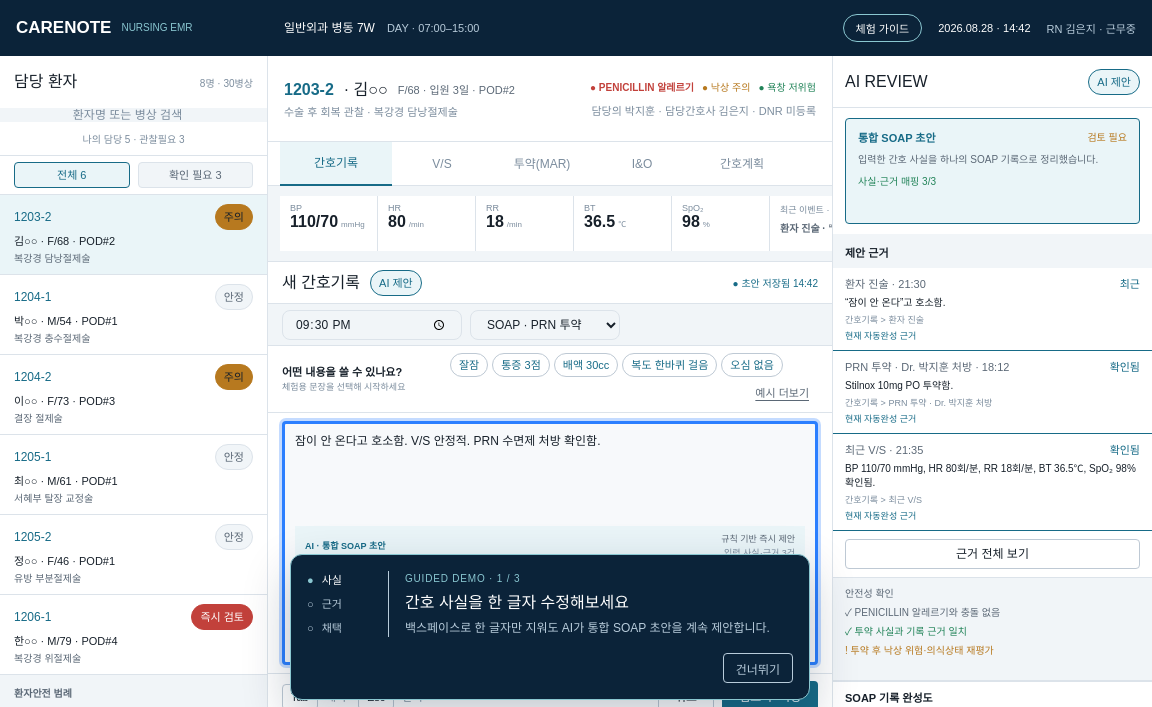
Test case: ChartingWorkspace input-grounded AI suggestions › keeps the pre-chart review prompt visible after accepting the SOAP suggestion
This screenshot has width=1152, height=707.
Replace the text in the text box named "간호 사실 입력" with "잠 못잠" at (550, 474), box [283,422,817,526]
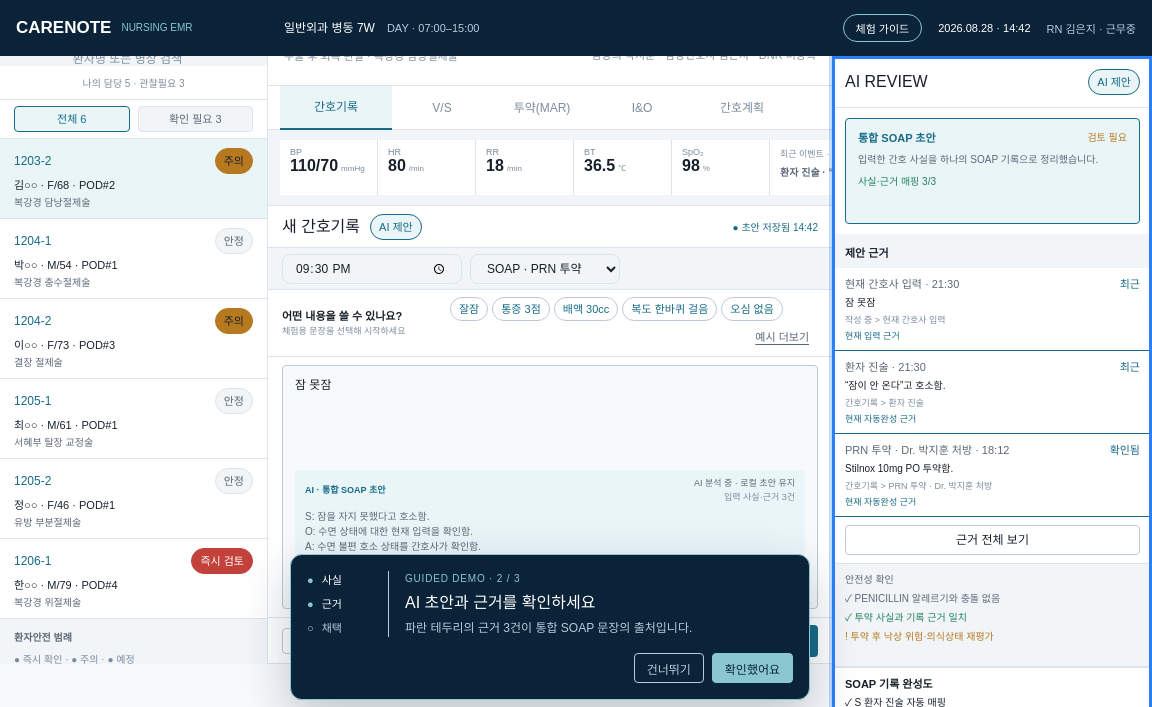
Press Tab in the text box named "간호 사실 입력", box [283,366,817,470]
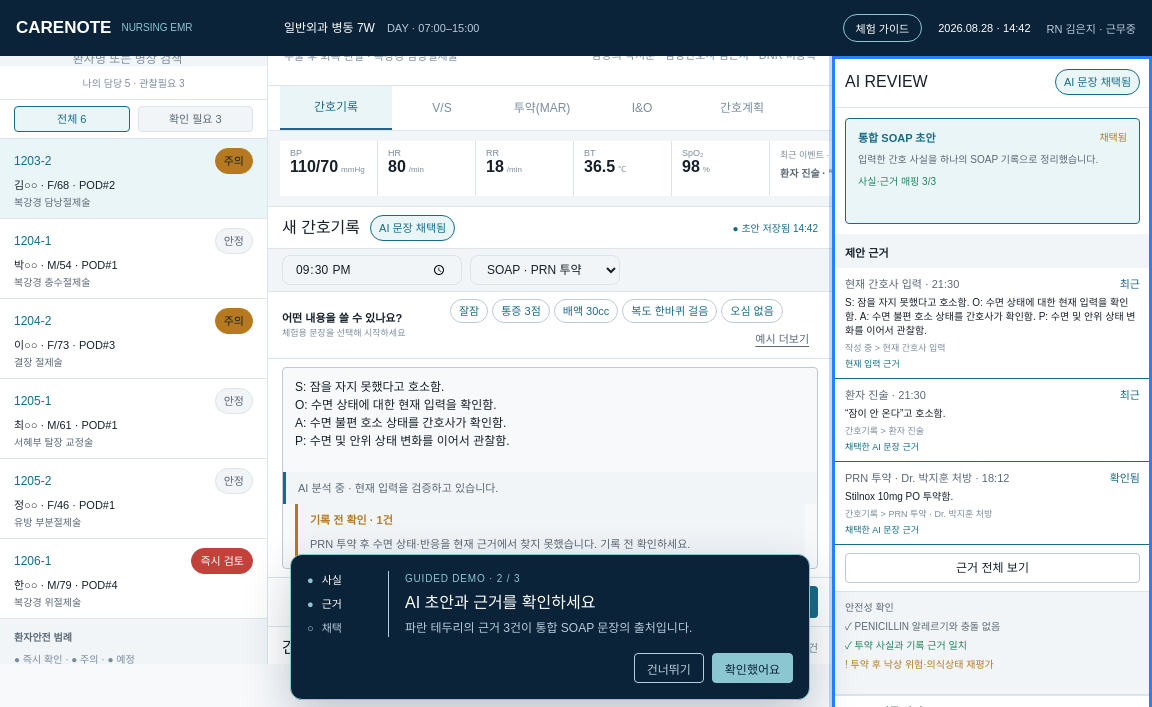
Now the message "기록 전 확인" shows "PRN 투약 후 수면 상태·반응을 현재 근거에서 찾지 못했습니다.", box [310,538,690,550]
